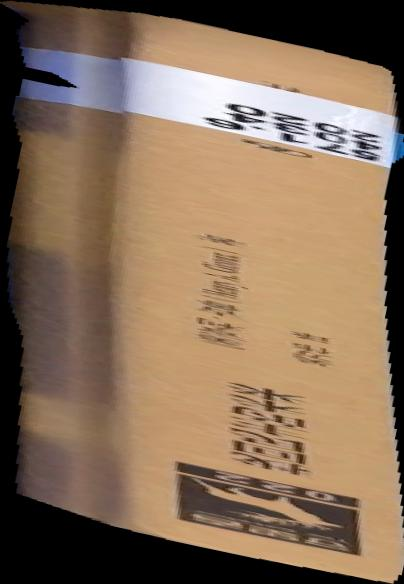reverse: (1, 1, 404, 584)
